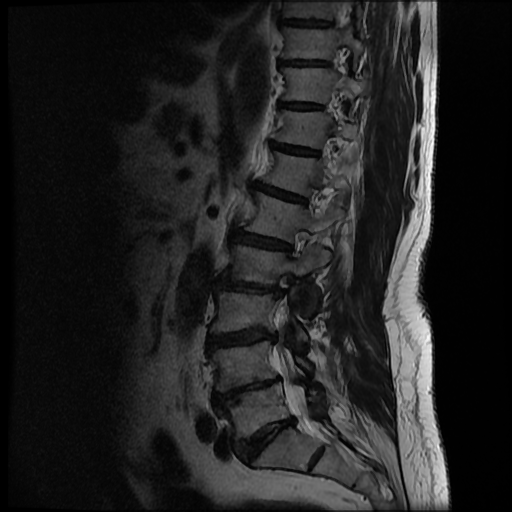RFS0: (277, 222, 319, 269)
